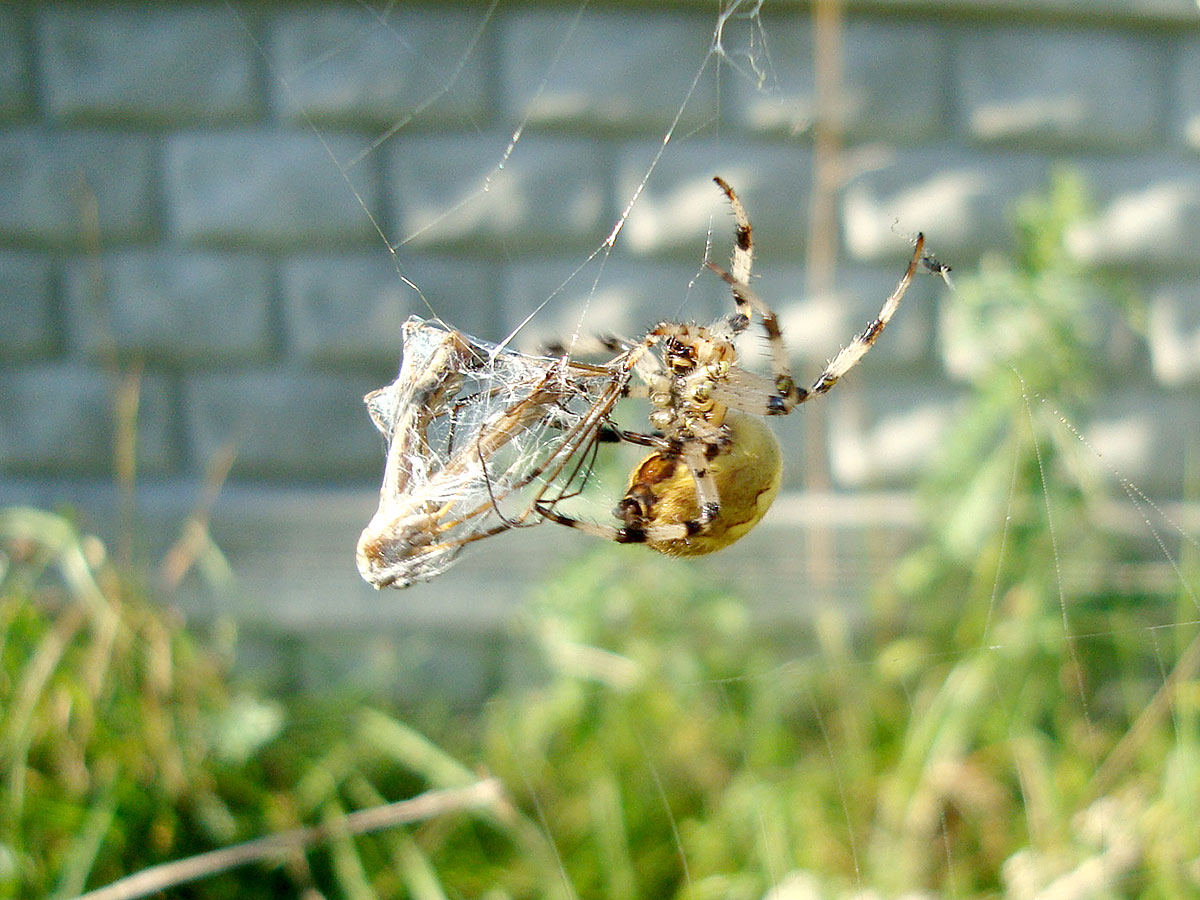spider: (498, 153, 946, 569)
